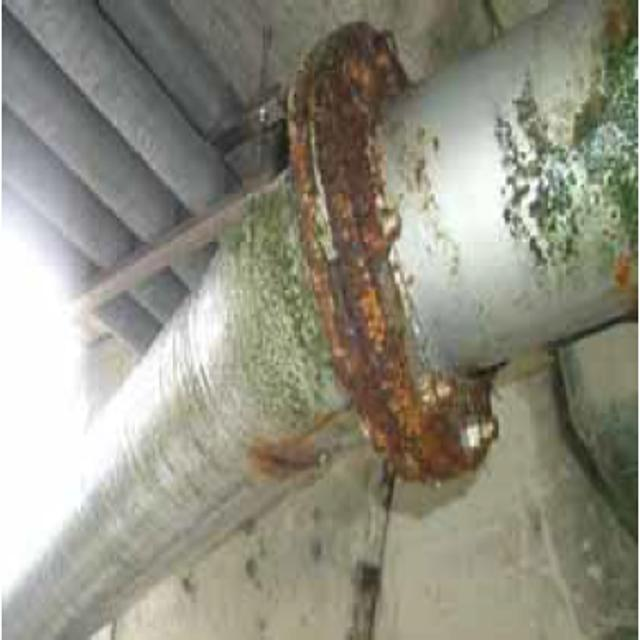corrosion: (263, 23, 483, 478)
